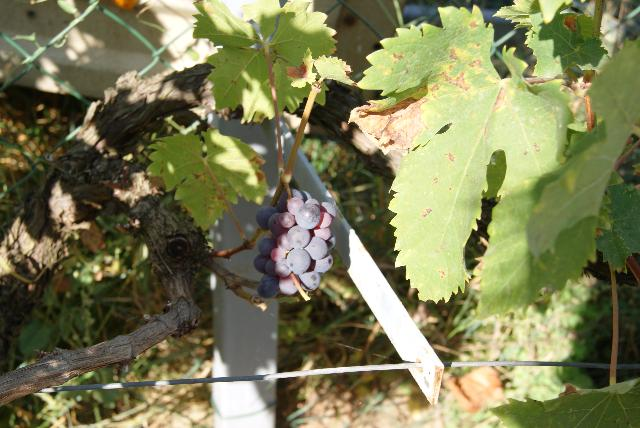grapes: (254, 190, 336, 299)
